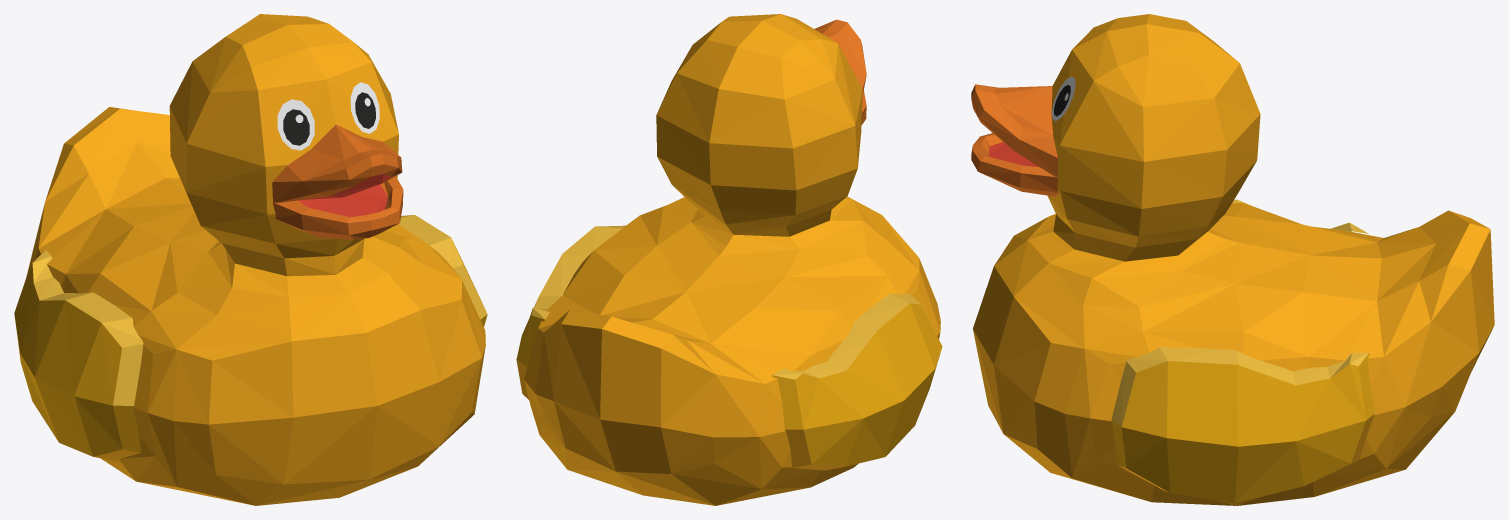
Rendered from rubberduckv3.gltf.
3 views of the same model, side by side, from view 1: azimuth 30°, elevation 25°; view 2: azimuth 150°, elevation 25°; view 3: azimuth 270°, elevation 25° (orthographic). The views are drawn at different scales.
Parts seen in each view (by area): view 1: RubberDuck; view 2: RubberDuck; view 3: RubberDuck.
Part boxes in pixels (<box>): RubberDuck: <box>14,14,487,505</box>; RubberDuck: <box>516,14,942,505</box>; RubberDuck: <box>971,14,1494,505</box>.
Bounding box in the file's own units: 1.36 × 1.43 × 1.56.
1 material, 1 textured.
